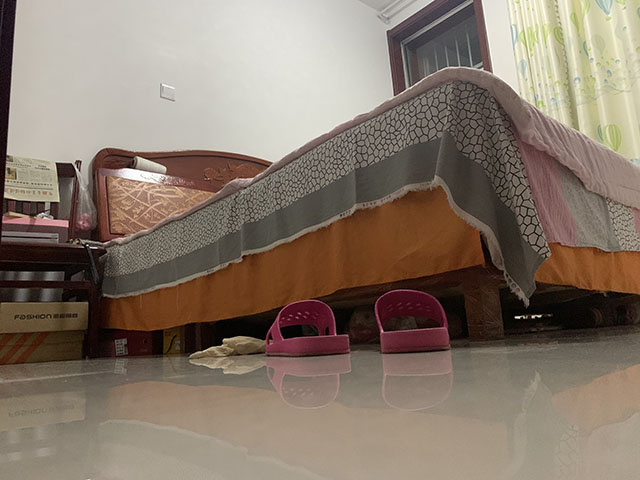bed: (90, 65, 640, 360)
slippers: (373, 289, 452, 355), (265, 299, 350, 358)
stool: (1, 154, 108, 361)
